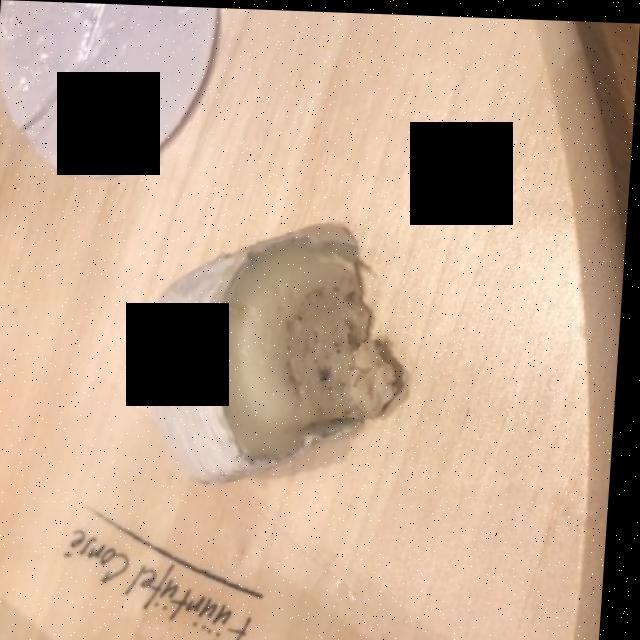cheese: (152, 228, 402, 480)
